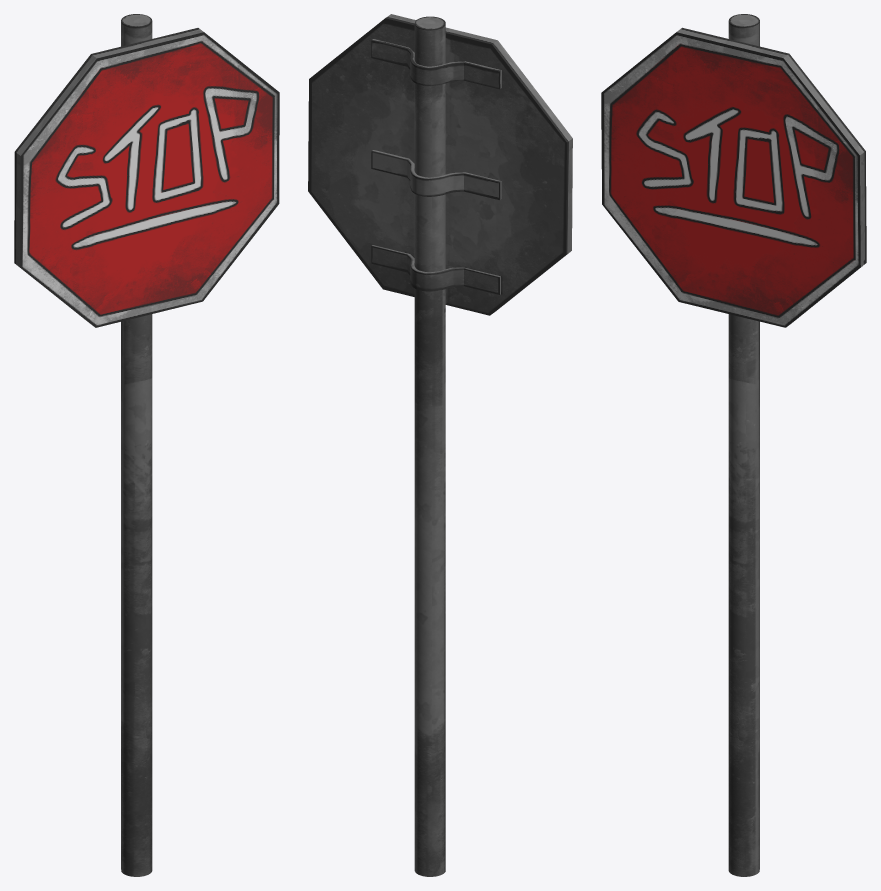
File: stopSign.obj
3 views of the same model, side by side, from view 1: azimuth 30°, elevation 25°; view 2: azimuth 150°, elevation 25°; view 3: azimuth 330°, elevation 25° (orthographic).
Visible parts, largest first — view 1: pCube4_initialShadingGroup; view 2: pCube4_initialShadingGroup; view 3: pCube4_initialShadingGroup.
Boxes of the visible parts, x1,y1,x2,y2 form: pCube4_initialShadingGroup: (14,14,279,876); pCube4_initialShadingGroup: (308,14,572,876); pCube4_initialShadingGroup: (601,14,866,876).
Bounding box in the file's own units: 7.1 × 22.26 × 1.14.
Materials: 1 (1 with a texture image).
